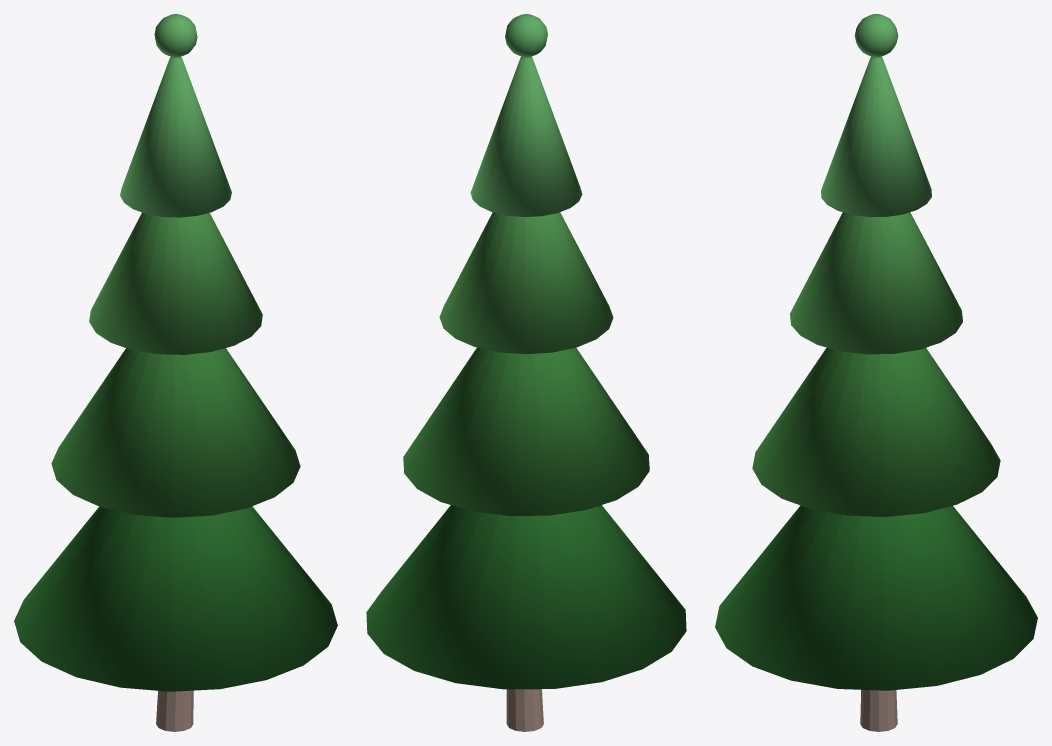
File: Pine_Tree.glb
3 views of the same model, side by side, from view 1: azimuth 30°, elevation 25°; view 2: azimuth 150°, elevation 25°; view 3: azimuth 270°, elevation 25° (orthographic).
Visible parts, largest first — view 1: Pine_Tree_Crown, Pine_Tree_Trunk; view 2: Pine_Tree_Crown, Pine_Tree_Trunk; view 3: Pine_Tree_Crown, Pine_Tree_Trunk.
Boxes of the visible parts, x1,y1,x2,y2 form: Pine_Tree_Crown: (14, 14, 337, 691); Pine_Tree_Trunk: (156, 690, 193, 731); Pine_Tree_Crown: (366, 14, 686, 689); Pine_Tree_Trunk: (506, 689, 543, 731); Pine_Tree_Crown: (715, 14, 1037, 690); Pine_Tree_Trunk: (860, 689, 897, 731).
Bounding box in the file's own units: 0.62 × 1.5 × 0.62.
